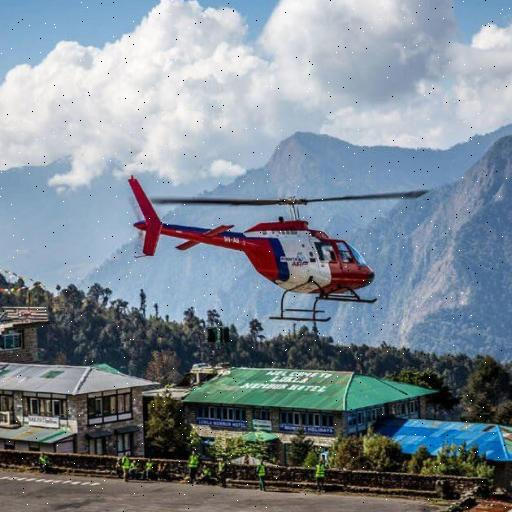helicopter: (120, 150, 435, 334)
